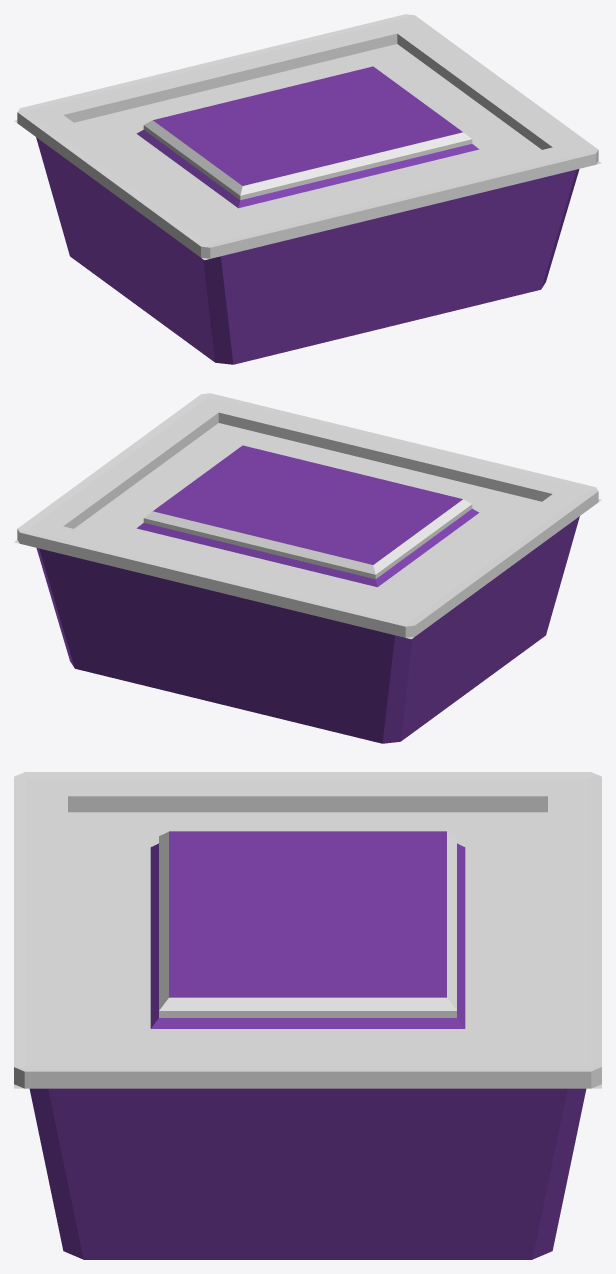
Rendered from lunchbox.glb.
3 renders of one model, top to bottom at view 1: azimuth 30°, elevation 25°; view 2: azimuth 150°, elevation 25°; view 3: azimuth 270°, elevation 25°, orthographic. The views are drawn at different scales.
Parts seen in each view (by area): view 1: Cube; view 2: Cube; view 3: Cube.
Part boxes in pixels (left/top/right/bottom): Cube: left=14, top=14, right=601, bottom=364; Cube: left=14, top=393, right=601, bottom=743; Cube: left=14, top=772, right=601, bottom=1259.
Bounding box in the file's own units: 0.2569 × 0.0883 × 0.2132.
